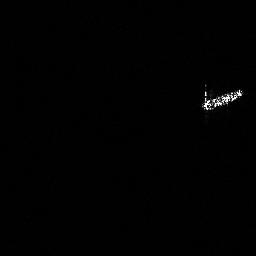ship: (197, 79, 246, 113)
